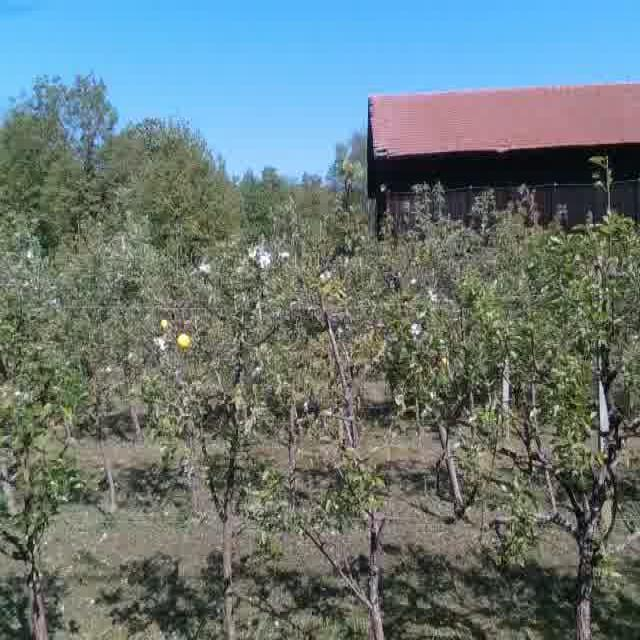yellow: (177, 329, 194, 351), (158, 316, 168, 329)
